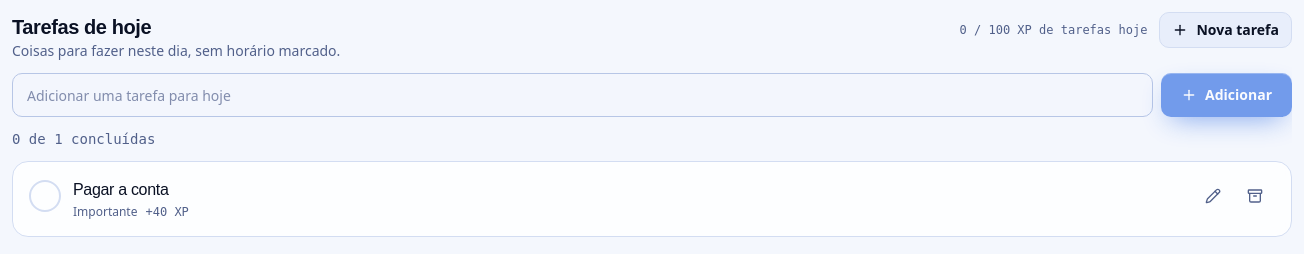
Test case: TasksSection (tarefas na tela Hoje) › concluir e desfazer › concluir envia o POST, avisa o XP e marca a tarefa como feita
Click the button named "Concluir “Pagar a conta”". click: (45, 196)
box: [29,180,61,212]
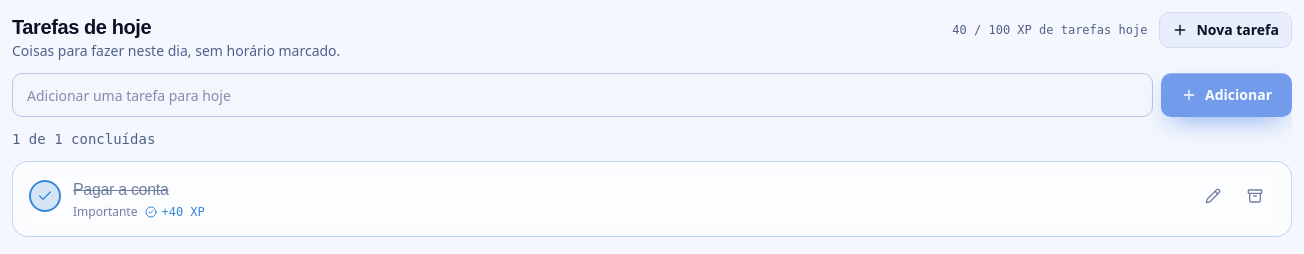
Now the text "1 de 1 concluídas" is shown, box [12,131,155,147]
